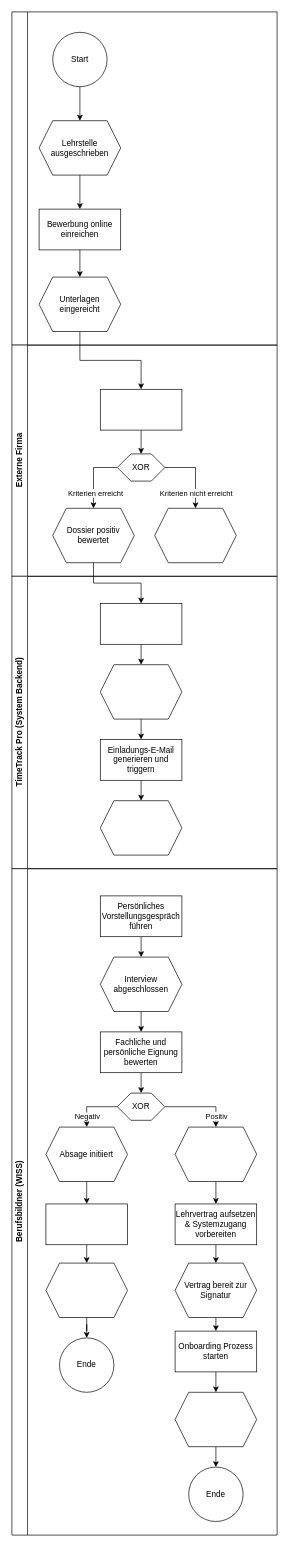
The diagram is 289 pixels wide and 1547 high, and some of its shapes have lost their labels. The centre of each missing label's shape, as x and y in pixels:
Absage erteilt: the point at 195,535
Automatisierter Import der Bewerbungen via API: the point at 141,623
Bewerber per Mail informiert: the point at 86,1290
Bewerber*in: the point at 144,178
Bewerberprofil im System abgelegt: the point at 141,691
Einladung an Bewerber verschickt: the point at 141,827
Formale Vorselektion & CV-Screening durchführen: the point at 141,409
Neuer Lernender erfolgreich erfasst & onboarded: the point at 215,1419
System-Status auf 'Abgelehnt' setzen: the point at 86,1224
Zusage beschlossen: the point at 215,1154
